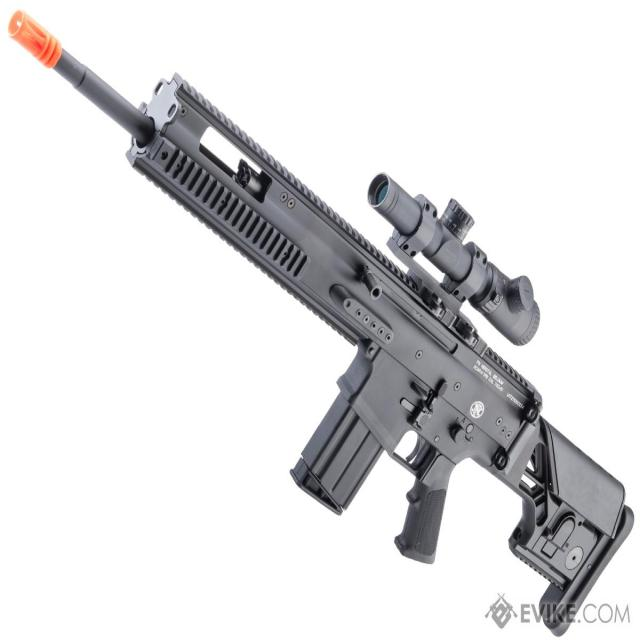Gun: (4, 6, 637, 631)
